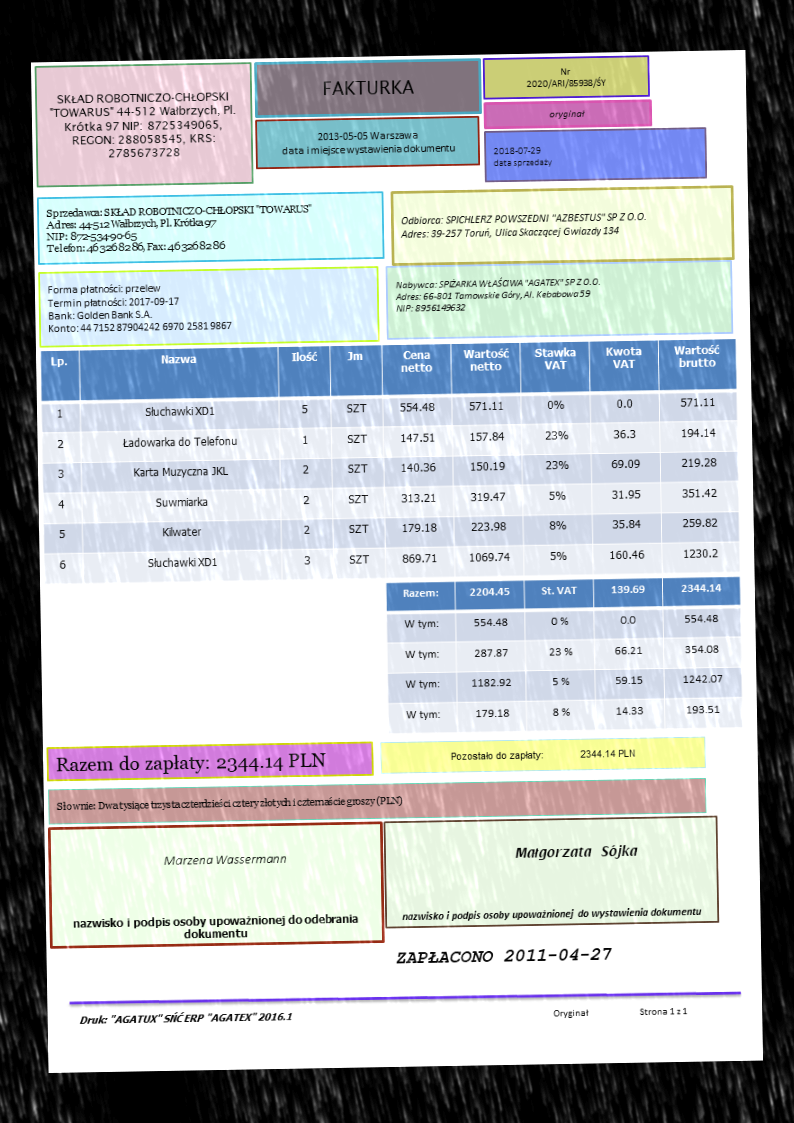Table: (39, 337, 742, 587), (385, 575, 744, 735)
TextBox: (43, 201, 314, 258), (48, 89, 239, 163), (45, 279, 233, 335), (69, 910, 362, 943), (397, 207, 649, 244), (54, 744, 328, 778), (392, 273, 603, 316), (55, 791, 404, 816), (399, 903, 704, 924), (394, 944, 613, 968), (280, 128, 456, 157), (447, 743, 638, 765), (78, 1008, 294, 1027), (550, 1001, 691, 1022), (513, 840, 639, 861), (160, 849, 290, 869), (524, 62, 608, 92), (319, 76, 418, 99), (491, 142, 553, 171), (547, 106, 586, 122)
